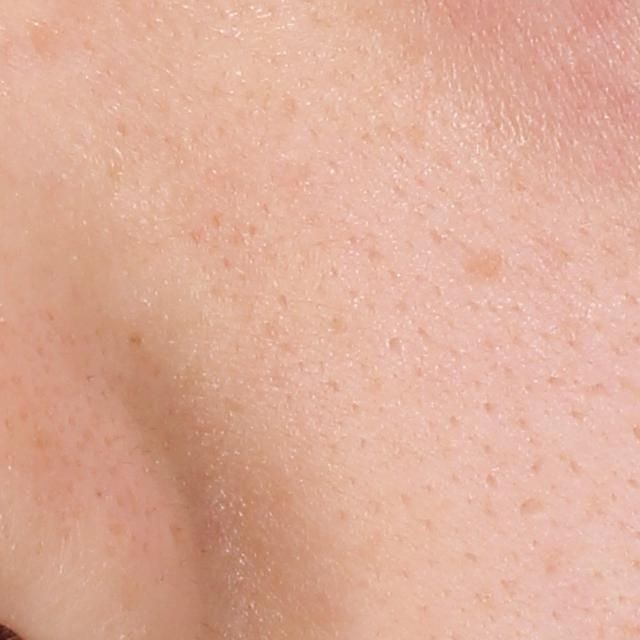melasma: (23, 16, 68, 58), (453, 247, 505, 279)
